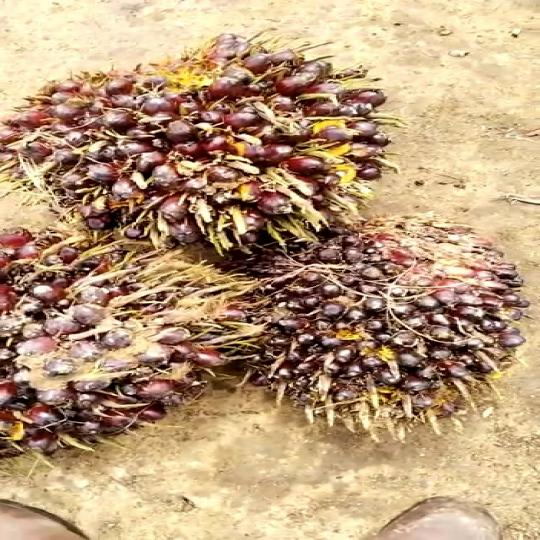kurang masak: (20, 50, 387, 242), (235, 207, 528, 434), (0, 224, 261, 464)
